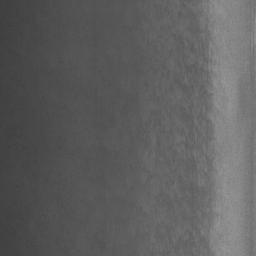Silk spot: (175, 10, 218, 256), (186, 154, 197, 175), (180, 0, 202, 8), (172, 34, 184, 48), (162, 64, 170, 77)
